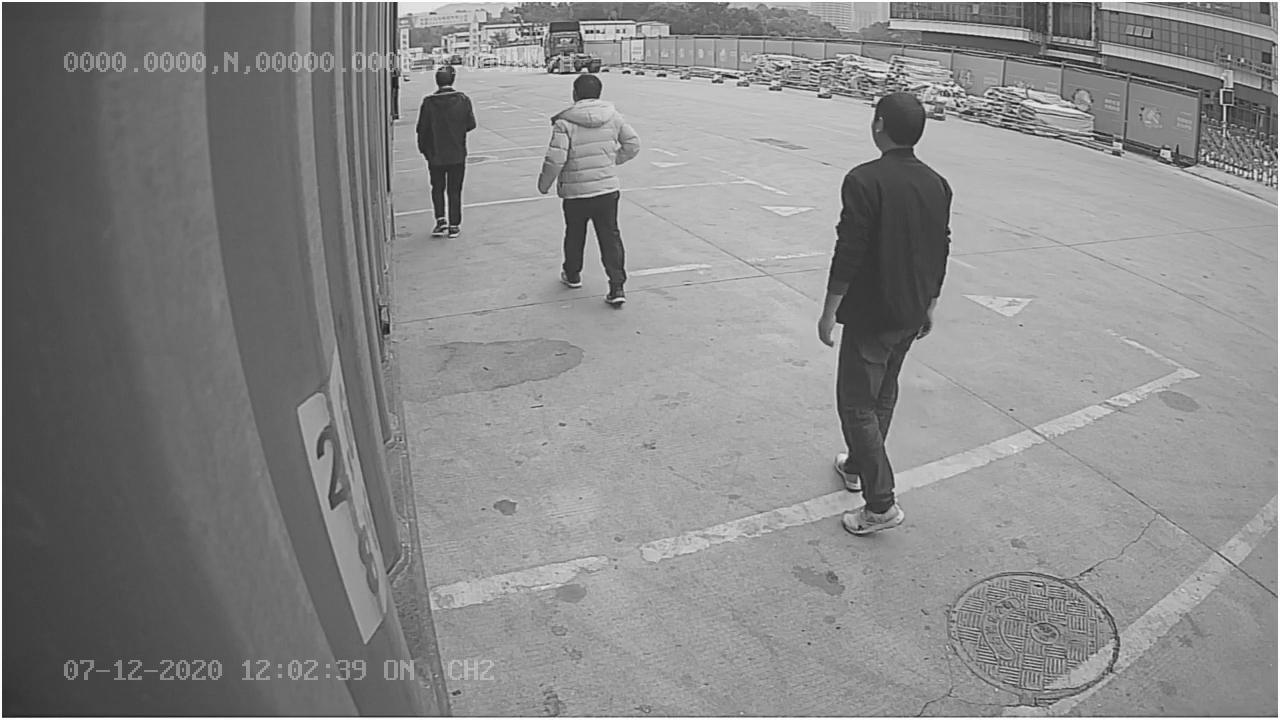person: (817, 90, 952, 539), (539, 74, 641, 309)
